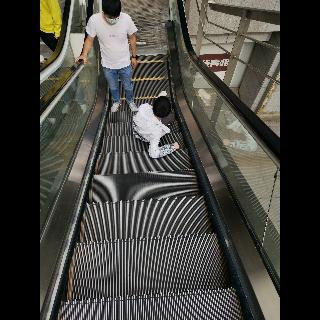anomaly: (128, 88, 188, 160)
normal: (74, 2, 146, 112), (40, 0, 62, 52)
